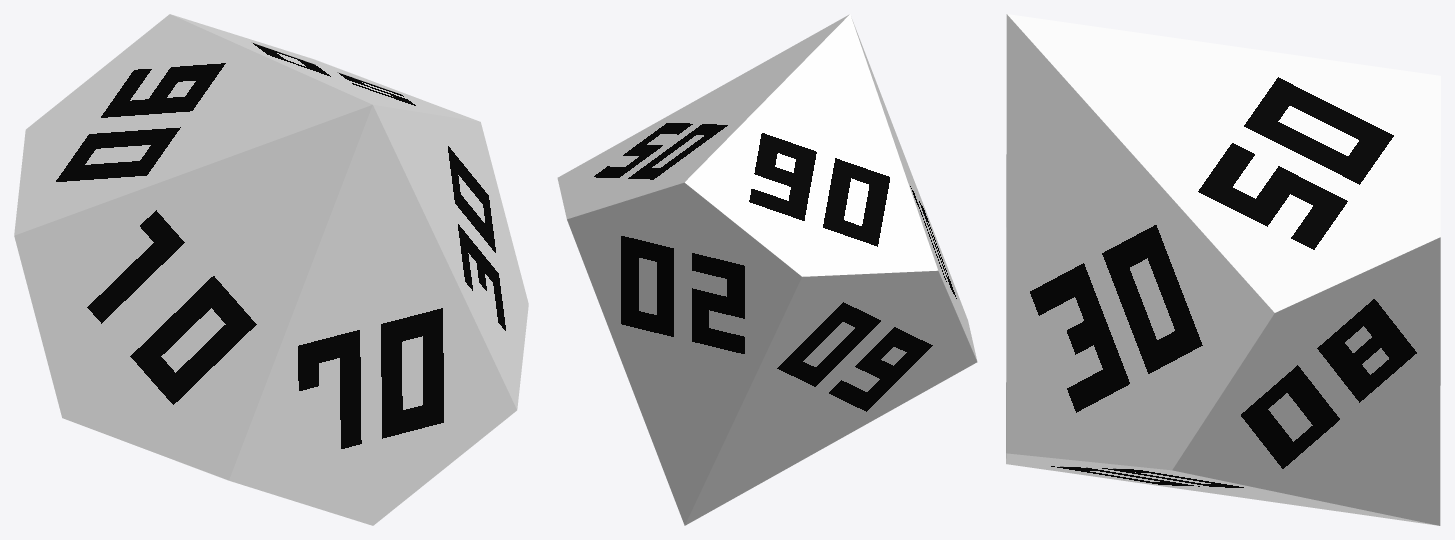
3 views of the same model, side by side, from view 1: azimuth 30°, elevation 25°; view 2: azimuth 150°, elevation 25°; view 3: azimuth 270°, elevation 25° (orthographic). The views are drawn at different scales.
Parts seen in each view (by area): view 1: MeshBody1.001; view 2: MeshBody1.001; view 3: MeshBody1.001.
Part boxes in pixels (box(x1,y1,x2,y2)): MeshBody1.001: box(14, 14, 528, 525); MeshBody1.001: box(557, 14, 977, 525); MeshBody1.001: box(1006, 14, 1440, 525).
Bounding box in the file's own units: 0.1942 × 0.1904 × 0.1465.
